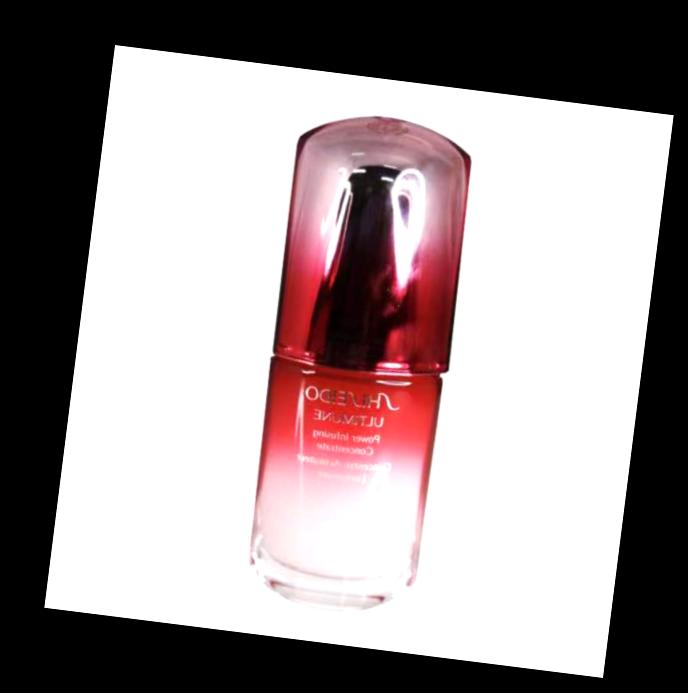cosmetic: (236, 101, 480, 616)
